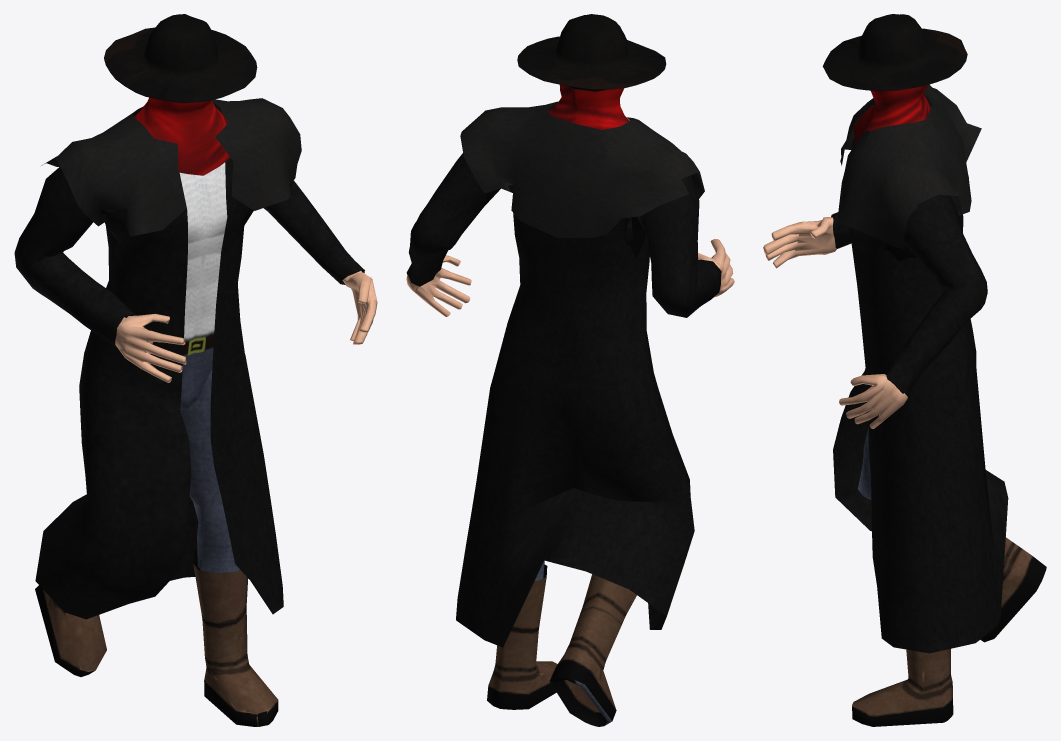
3 renders of one model, left to right at view 1: azimuth 30°, elevation 25°; view 2: azimuth 150°, elevation 25°; view 3: azimuth 270°, elevation 25°, orthographic. The views are drawn at different scales.
Visible parts, largest first — view 1: Undertaker_walk:Undertaker_4:Undertaker_4:Undertaker; view 2: Undertaker_walk:Undertaker_4:Undertaker_4:Undertaker; view 3: Undertaker_walk:Undertaker_4:Undertaker_4:Undertaker.
Boxes of the visible parts, box(x1,y1,x2,y2) form: Undertaker_walk:Undertaker_4:Undertaker_4:Undertaker: box(14, 14, 377, 726); Undertaker_walk:Undertaker_4:Undertaker_4:Undertaker: box(406, 14, 734, 726); Undertaker_walk:Undertaker_4:Undertaker_4:Undertaker: box(763, 14, 1046, 726).
Bounding box in the file's own units: 1.38 × 2.9 × 1.11.
Materials: 1 (1 with a texture image).
